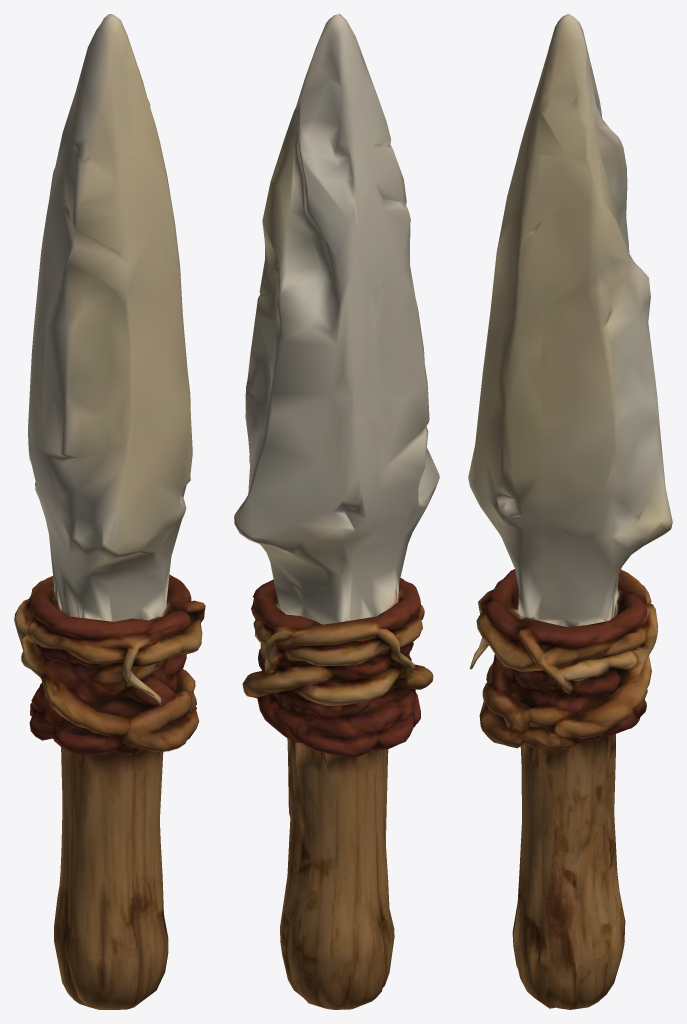
Rendered from punzon_hueso.glb.
The picture shows the model from 3 angles, left to right: view 1: azimuth 30°, elevation 25°; view 2: azimuth 150°, elevation 25°; view 3: azimuth 270°, elevation 25°; orthographic projection.
Parts seen in each view (by area): view 1: tripo_node_c661c906-8735-4c93-a756-992541997452; view 2: tripo_node_c661c906-8735-4c93-a756-992541997452; view 3: tripo_node_c661c906-8735-4c93-a756-992541997452.
Part boxes in pixels (x1,y1,x2,y2): tripo_node_c661c906-8735-4c93-a756-992541997452: [14, 14, 205, 1009]; tripo_node_c661c906-8735-4c93-a756-992541997452: [234, 14, 439, 1009]; tripo_node_c661c906-8735-4c93-a756-992541997452: [468, 14, 672, 1009].
Size of the model in its own units: 0.1723 by 0.9996 by 0.1882.
Materials: 1 (1 with a texture image).
